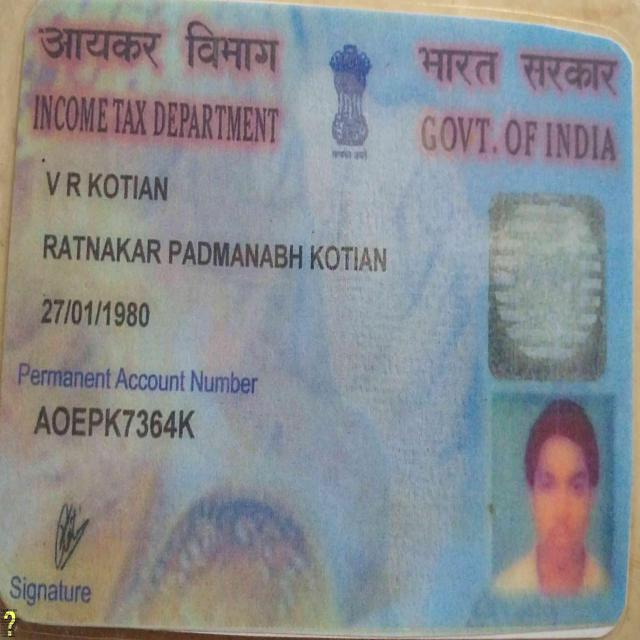pan_card: (2, 0, 631, 631)
